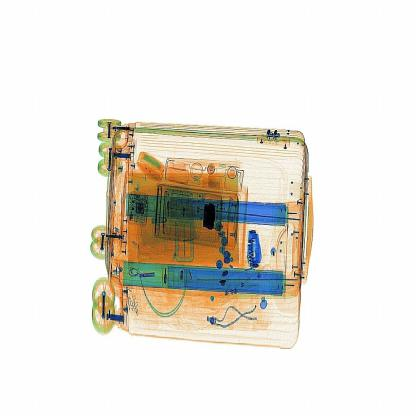scissors: (242, 225, 273, 277)
